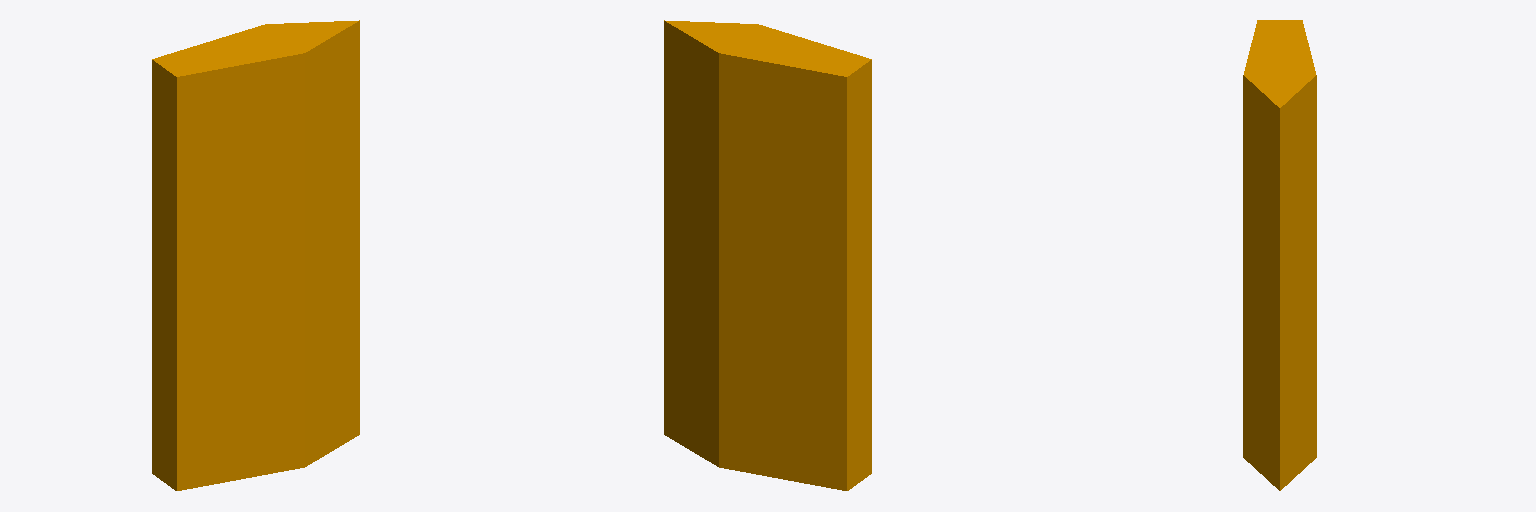
URDF robot description (pentagon):
<?xml version="1.0" ?>
<robot name="pentagon">

    <link name="pentagon">
        <visual>
            <origin rpy="1.5707963267948966 0 -1.5707963267948966" xyz="-0.00 0 -0.0"/>
            <geometry>
                <mesh filename="Shapes/pentagon.obj" scale="0.0385 .1 0.11546"/>
            </geometry>
        </visual>
        <collision>
            <origin rpy="1.5707963267948966 0 -1.5707963267948966" xyz="-0.00 0 -0.0"/>
            <geometry>
                <mesh filename="Shapes/pentagon.obj" scale="0.0385 .1 0.11546"/>
            </geometry>
        </collision>
        <inertial>
            <mass value="0.3"/>
            <inertia ixx="0.000029435425" ixy="0.0" ixz="0.0" iyy="0.000029435425" iyz="0.0" izz="0.00000725805"/>
        </inertial>
    </link>

</robot>

--- What the picture shows (computed from the rendered views, not written in the file) ---
3 views of the same robot in one strip: view 1: azimuth 30°, elevation 25°; view 2: azimuth 150°, elevation 25°; view 3: azimuth 270°, elevation 25° (orthographic).
Model pentagon with 1 links and 0 joints (none), rooted at pentagon, posed all joints at 0.
Links seen in each view (by area): view 1: pentagon; view 2: pentagon; view 3: pentagon.
Link boxes in pixels (left/top/right/bottom): pentagon: left=152, top=20, right=359, bottom=490; pentagon: left=664, top=20, right=871, bottom=490; pentagon: left=1243, top=20, right=1316, bottom=490.
Size in the robot's own frame: 0.0494 by 0.0173 by 0.1 metres.
1 mesh visuals loaded from 1 distinct referenced files (1 OBJ).
